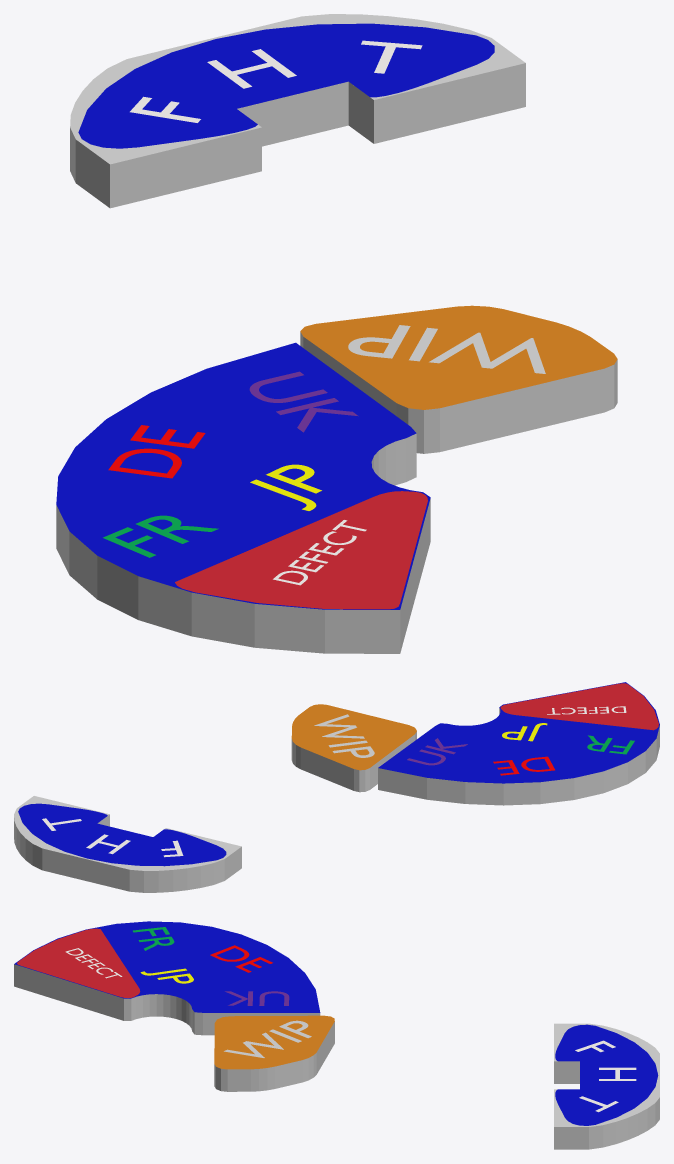
The model's file is production_zones_mobile.dae.
3 renders of one model, top to bottom at view 1: azimuth 30°, elevation 25°; view 2: azimuth 150°, elevation 25°; view 3: azimuth 270°, elevation 25°, orthographic. The views are drawn at different scales.
Visible parts, largest first — view 1: Circle.001, zones.002, zones, Plane.001, Circle, Plane, Plane.002, Text, zones.001, Text.004, Text.005, Text.003 (+2 smaller); view 2: Circle.001, zones.002, zones, Circle, Plane.001, Plane, Plane.002, Text, zones.001, Text.004, Text.005, Text.003; view 3: Circle.001, zones, Circle, Plane.001, zones.002, Plane, Plane.002, Text, zones.001, Text.004, Text.005, Text.003.
Boxes of the visible parts, box(x1,y1,x2,y2) form: Circle.001: box(56, 342, 430, 609); zones.002: box(70, 14, 525, 208); zones: box(78, 23, 494, 148); Plane.001: box(300, 305, 617, 409); Circle: box(56, 433, 430, 653); Plane: box(175, 491, 427, 609); Plane.002: box(300, 332, 617, 453); Text: box(348, 325, 545, 373); zones.001: box(130, 40, 422, 122); Text.004: box(108, 425, 205, 478); Text.005: box(249, 371, 358, 432); Text.003: box(103, 515, 218, 557); Circle.001: box(378, 682, 659, 783); zones.002: box(14, 796, 241, 892); zones: box(18, 803, 226, 866); Circle: box(378, 708, 659, 805); Plane.001: box(291, 704, 416, 770); Plane: box(500, 683, 658, 730); Plane.002: box(291, 731, 416, 792); Text: box(314, 714, 374, 757); zones.001: box(42, 818, 183, 857); Text.004: box(493, 756, 554, 775); Text.005: box(407, 738, 467, 765); Text.003: box(587, 735, 634, 754); Circle.001: box(14, 921, 320, 1012); zones: box(555, 1024, 658, 1125); Circle: box(14, 964, 320, 1035); Plane.001: box(214, 1015, 334, 1069); zones.002: box(554, 1023, 659, 1149); Plane: box(17, 928, 140, 997); Plane.002: box(214, 1021, 334, 1091); Text: box(224, 1020, 311, 1057); zones.001: box(575, 1040, 636, 1112); Text.004: box(210, 945, 272, 972); Text.005: box(225, 991, 289, 1005); Text.003: box(133, 927, 174, 950).
Size of the model in its own units: 0.9843 by 1.31 by 0.0502.
